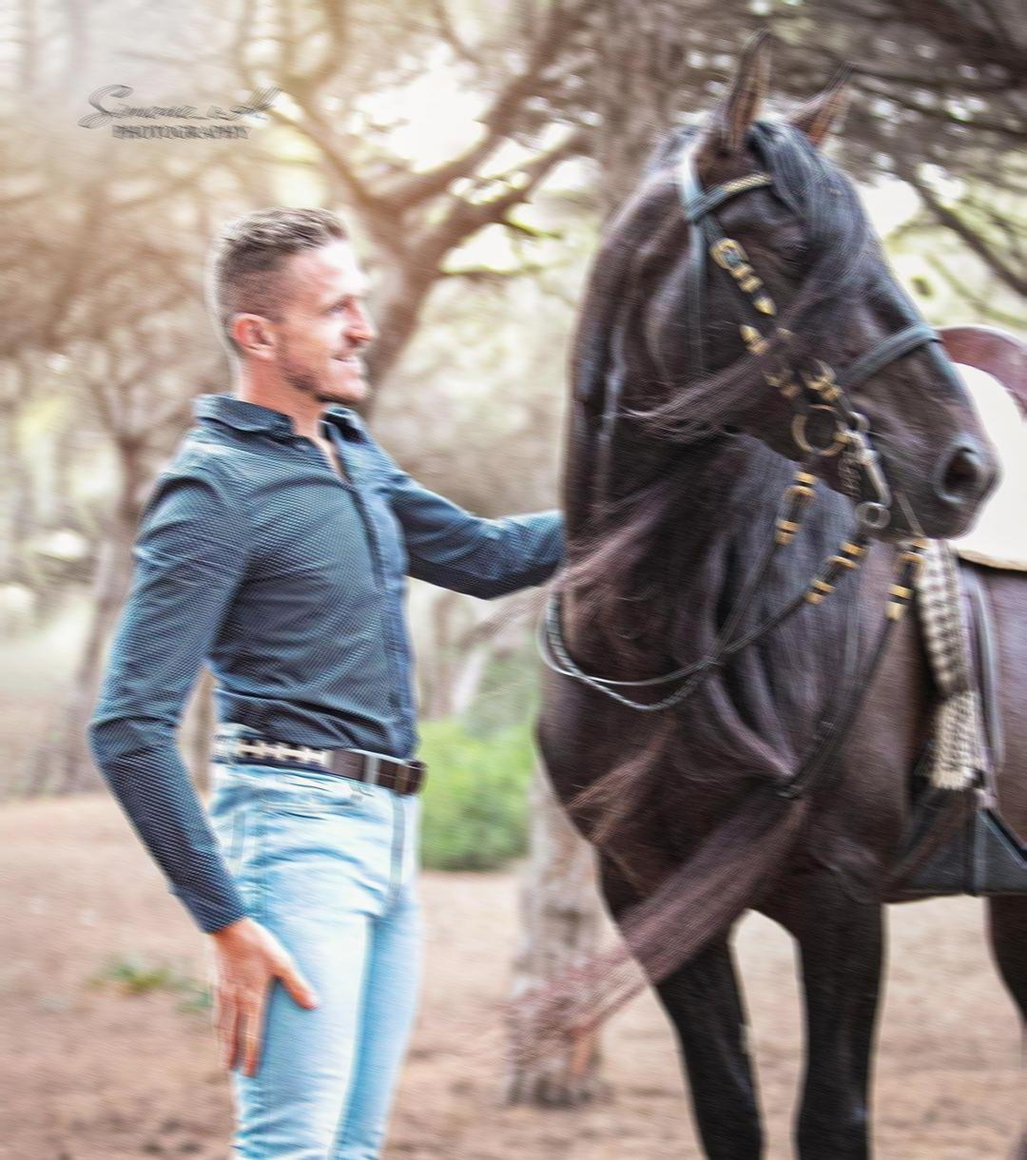horse: (465, 26, 1027, 1158)
